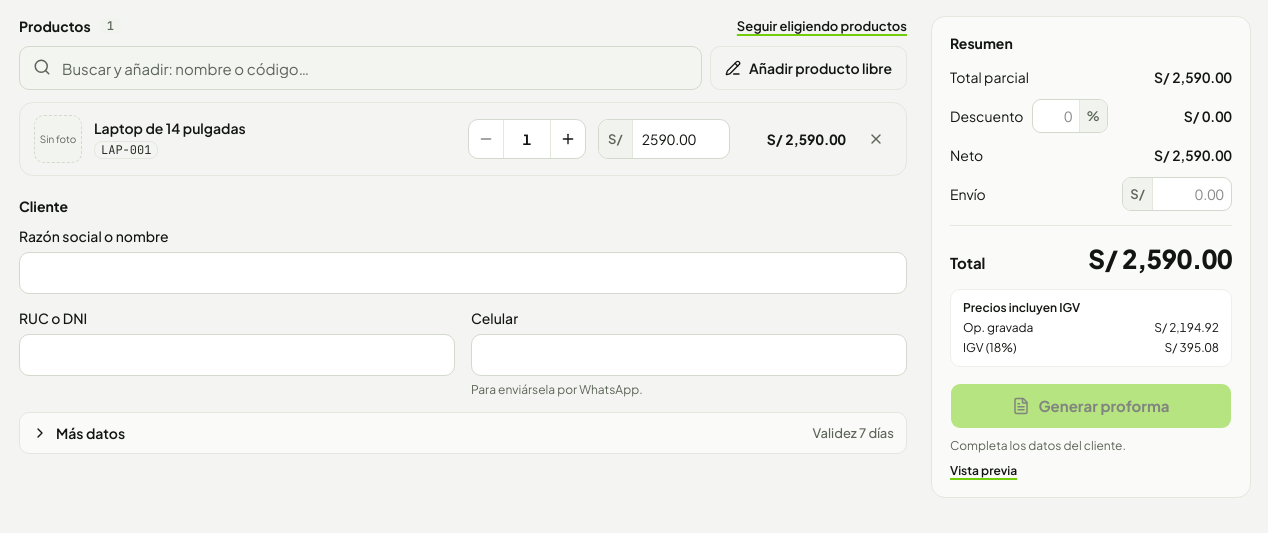
Test: ProformaEditor › cliente desde el historial › con un DNI conocido también completa, sin consultar SUNAT
Type "12345678" into the field labelled "RUC o DNI" at (237, 355), box [19,334,455,376]
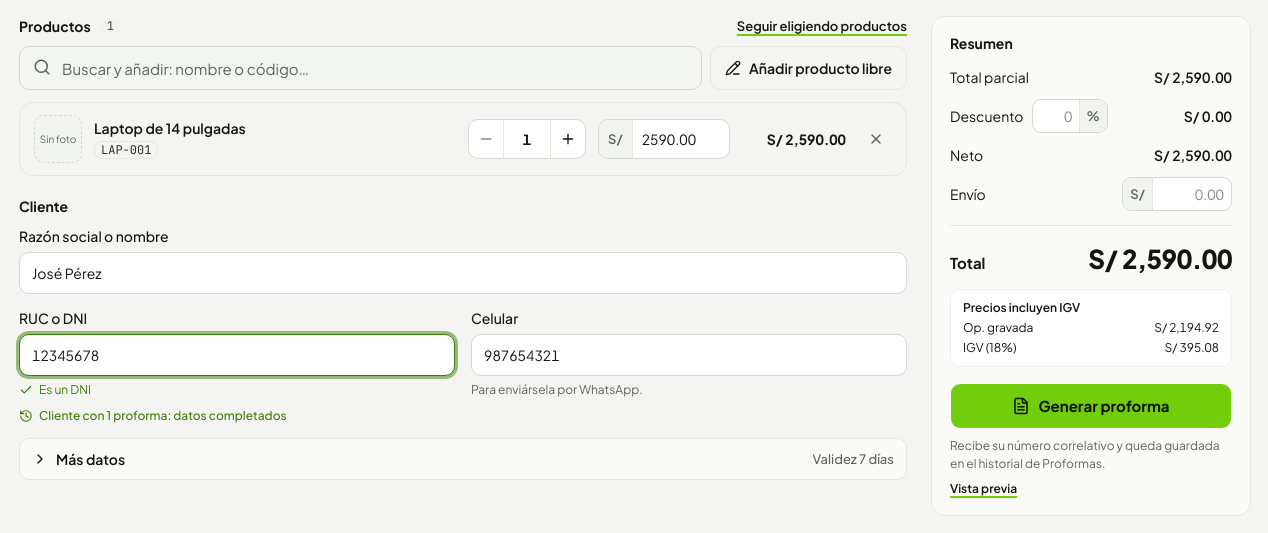
Now the text "Cliente con 1 proforma: datos completados" is shown, box [19,408,287,423]
Now the field labelled "Razón social o nombre" holds "José Pérez", box [19,252,907,294]
